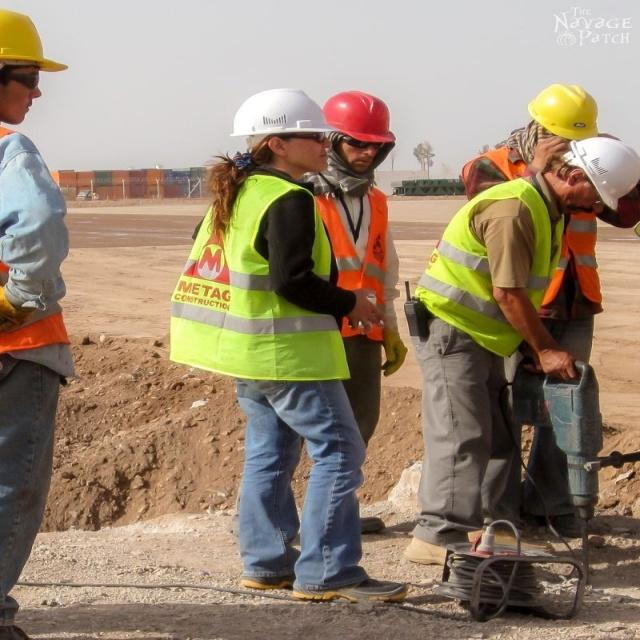helmet: (232, 116, 333, 228), (546, 180, 639, 289), (1, 9, 57, 167), (320, 119, 392, 229), (524, 109, 602, 196)
vest: (196, 240, 330, 507), (414, 247, 579, 444), (313, 246, 395, 482)
